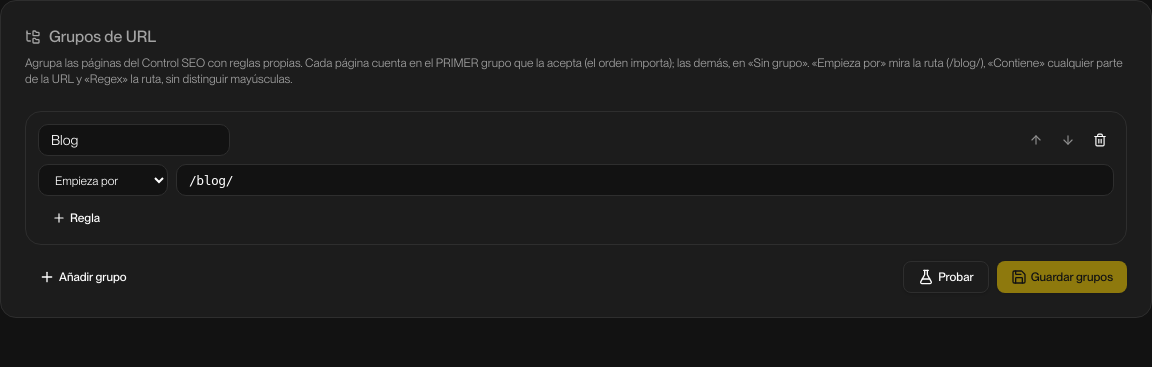
Scenario: SeoPageGroupsEditor › tests the rules without saving and shows how many pages each group gets
The width and height of the screenshot is (1152, 367).
What coordinates should you click on to do the following:
click the button "Probar"
I would click on:
 (946, 277)
Its box is [903,261,989,293].
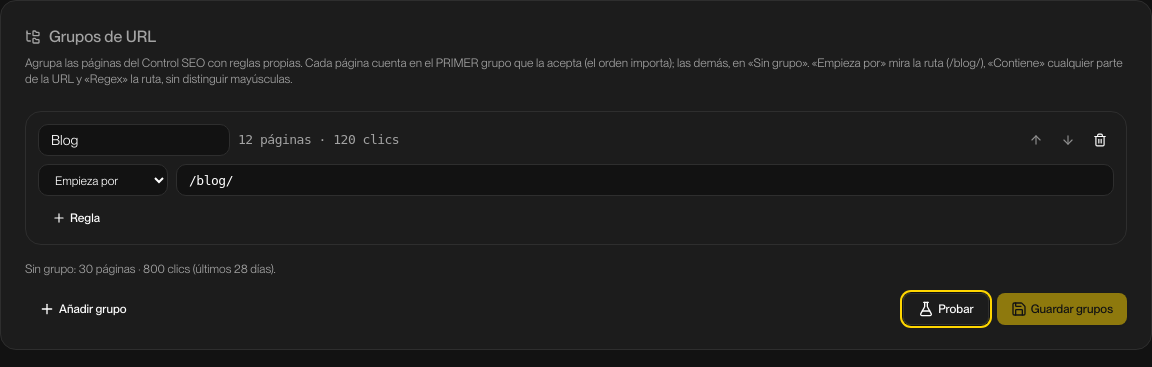
Check: the text "12 páginas · 120 clics" is shown, box [238,131,399,149]
Check: the text "Sin grupo: 30 páginas · 800 clics (últimos 28 días)." is shown, box [25,262,276,276]
